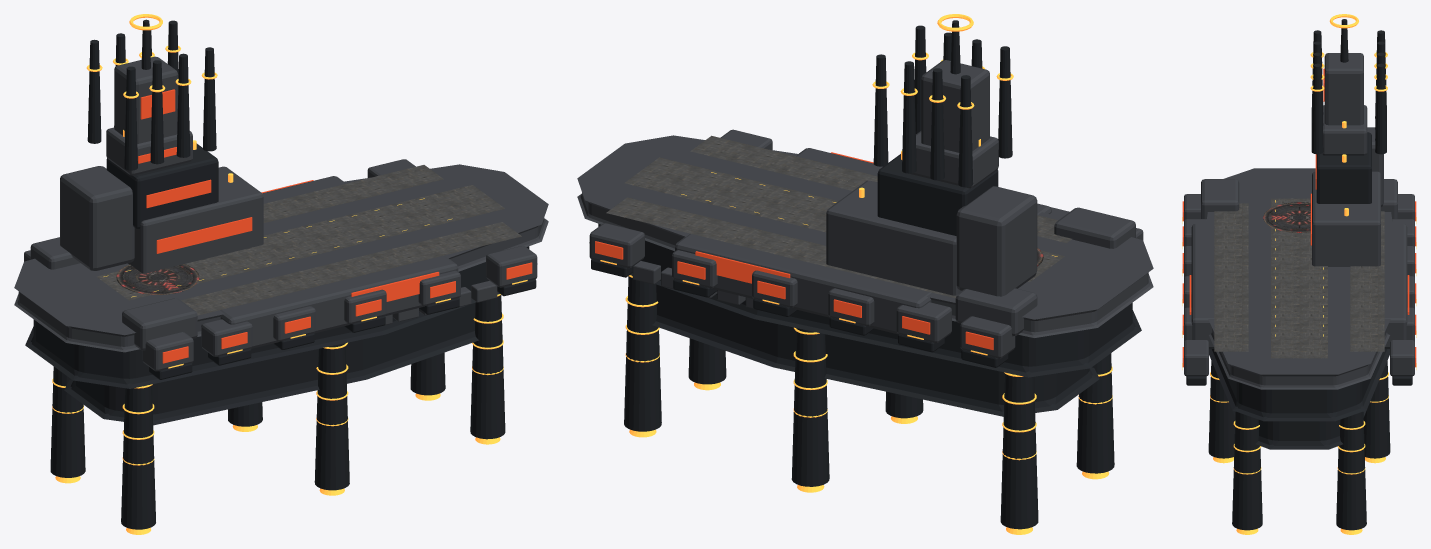
The model's file is inferno-ozone-base-v2.glb.
The picture shows the model from 3 angles, left to right: view 1: azimuth 30°, elevation 25°; view 2: azimuth 150°, elevation 25°; view 3: azimuth 270°, elevation 25°; orthographic projection. The views are drawn at different scales.
Parts seen in each view (by area): view 1: inferno_ozone_base_v2__lod0__Inferno orbital armor, inferno_ozone_base_v2__lod0__Inferno structural shadow, inferno_ozone_base_v2__lod0__Inferno tiled flight deck, inferno_ozone_base_v2__lod0__Inferno recessed glazing, inferno_ozone_base_v2__lod0__Inferno emissive guidance, inferno_ozone_base_v2__lod0__Inferno tactical mesh overlay; view 2: inferno_ozone_base_v2__lod0__Inferno orbital armor, inferno_ozone_base_v2__lod0__Inferno structural shadow, inferno_ozone_base_v2__lod0__Inferno tiled flight deck, inferno_ozone_base_v2__lod0__Inferno recessed glazing, inferno_ozone_base_v2__lod0__Inferno emissive guidance; view 3: inferno_ozone_base_v2__lod0__Inferno orbital armor, inferno_ozone_base_v2__lod0__Inferno structural shadow, inferno_ozone_base_v2__lod0__Inferno tiled flight deck, inferno_ozone_base_v2__lod0__Inferno emissive guidance, inferno_ozone_base_v2__lod0__Inferno tactical mesh overlay, inferno_ozone_base_v2__lod0__Inferno recessed glazing.
Part boxes in pixels (x1,y1,x2,y2): inferno_ozone_base_v2__lod0__Inferno orbital armor: (14,56,548,371); inferno_ozone_base_v2__lod0__Inferno structural shadow: (25,19,536,529); inferno_ozone_base_v2__lod0__Inferno tiled flight deck: (96,165,521,315); inferno_ozone_base_v2__lod0__Inferno recessed glazing: (138,89,532,363); inferno_ozone_base_v2__lod0__Inferno emissive guidance: (52,14,527,534); inferno_ozone_base_v2__lod0__Inferno tactical mesh overlay: (116,264,199,294); inferno_ozone_base_v2__lod0__Inferno orbital armor: (577,60,1153,358); inferno_ozone_base_v2__lod0__Inferno structural shadow: (589,20,1141,529); inferno_ozone_base_v2__lod0__Inferno tiled flight deck: (606,135,1071,298); inferno_ozone_base_v2__lod0__Inferno recessed glazing: (595,152,993,349); inferno_ozone_base_v2__lod0__Inferno emissive guidance: (600,14,1112,534); inferno_ozone_base_v2__lod0__Inferno orbital armor: (1184,53,1414,389); inferno_ozone_base_v2__lod0__Inferno structural shadow: (1186,19,1412,530); inferno_ozone_base_v2__lod0__Inferno tiled flight deck: (1214,198,1384,358); inferno_ozone_base_v2__lod0__Inferno emissive guidance: (1182,14,1416,534); inferno_ozone_base_v2__lod0__Inferno tactical mesh overlay: (1263,202,1310,232); inferno_ozone_base_v2__lod0__Inferno recessed glazing: (1182,68,1416,367).
Bounding box in the file's own units: 892 × 784 × 428.
6 materials, 2 textured.
